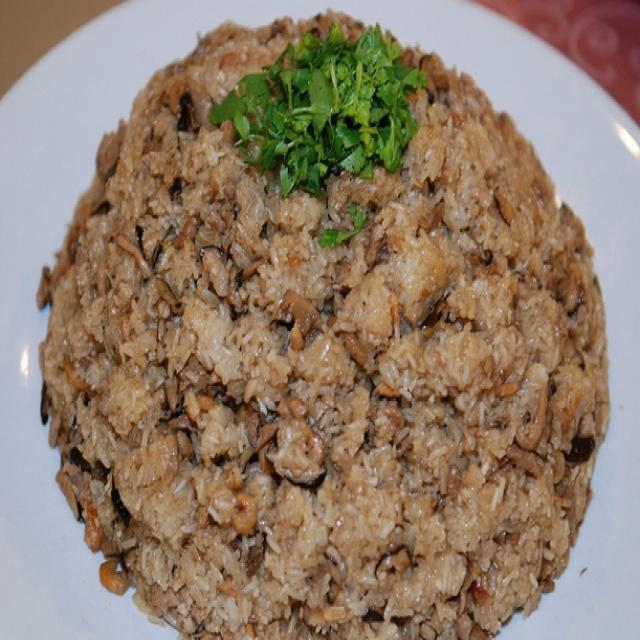米饭主食: (22, 34, 603, 615)
